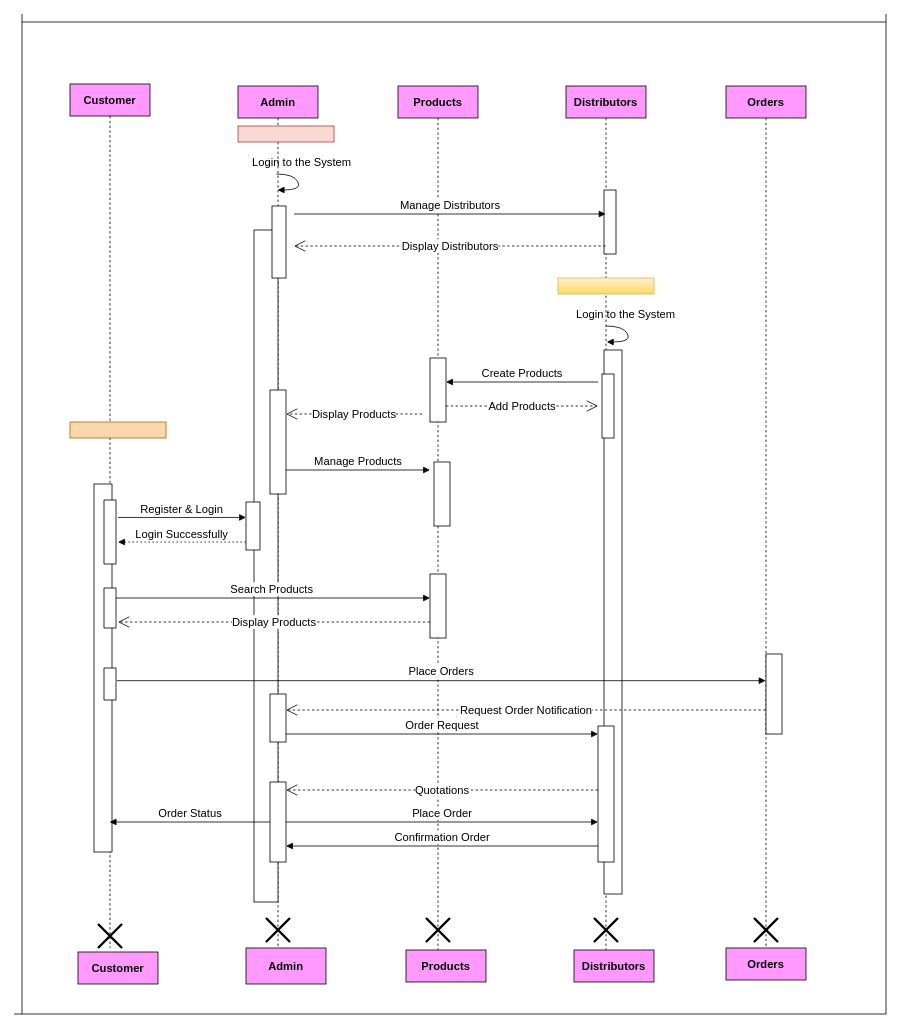
Image size: 901x1029. Some labels were removed from this diagram. Here are the shapes that lost their labels. From the top down, the centre of each, then its label:
At [285,133]: "Admin Login".
At [605,285]: "Distributor Login".
At [117,429]: "Customer Login".
